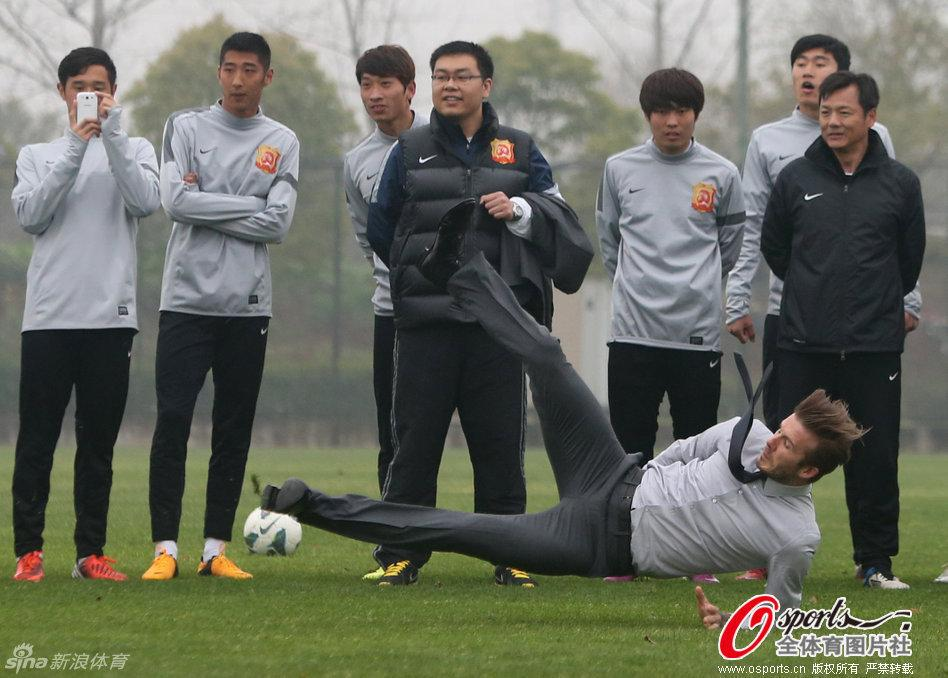down: (256, 189, 867, 618)
up: (365, 40, 566, 583), (133, 27, 309, 580), (12, 36, 155, 590), (779, 71, 927, 578), (592, 58, 738, 470)
